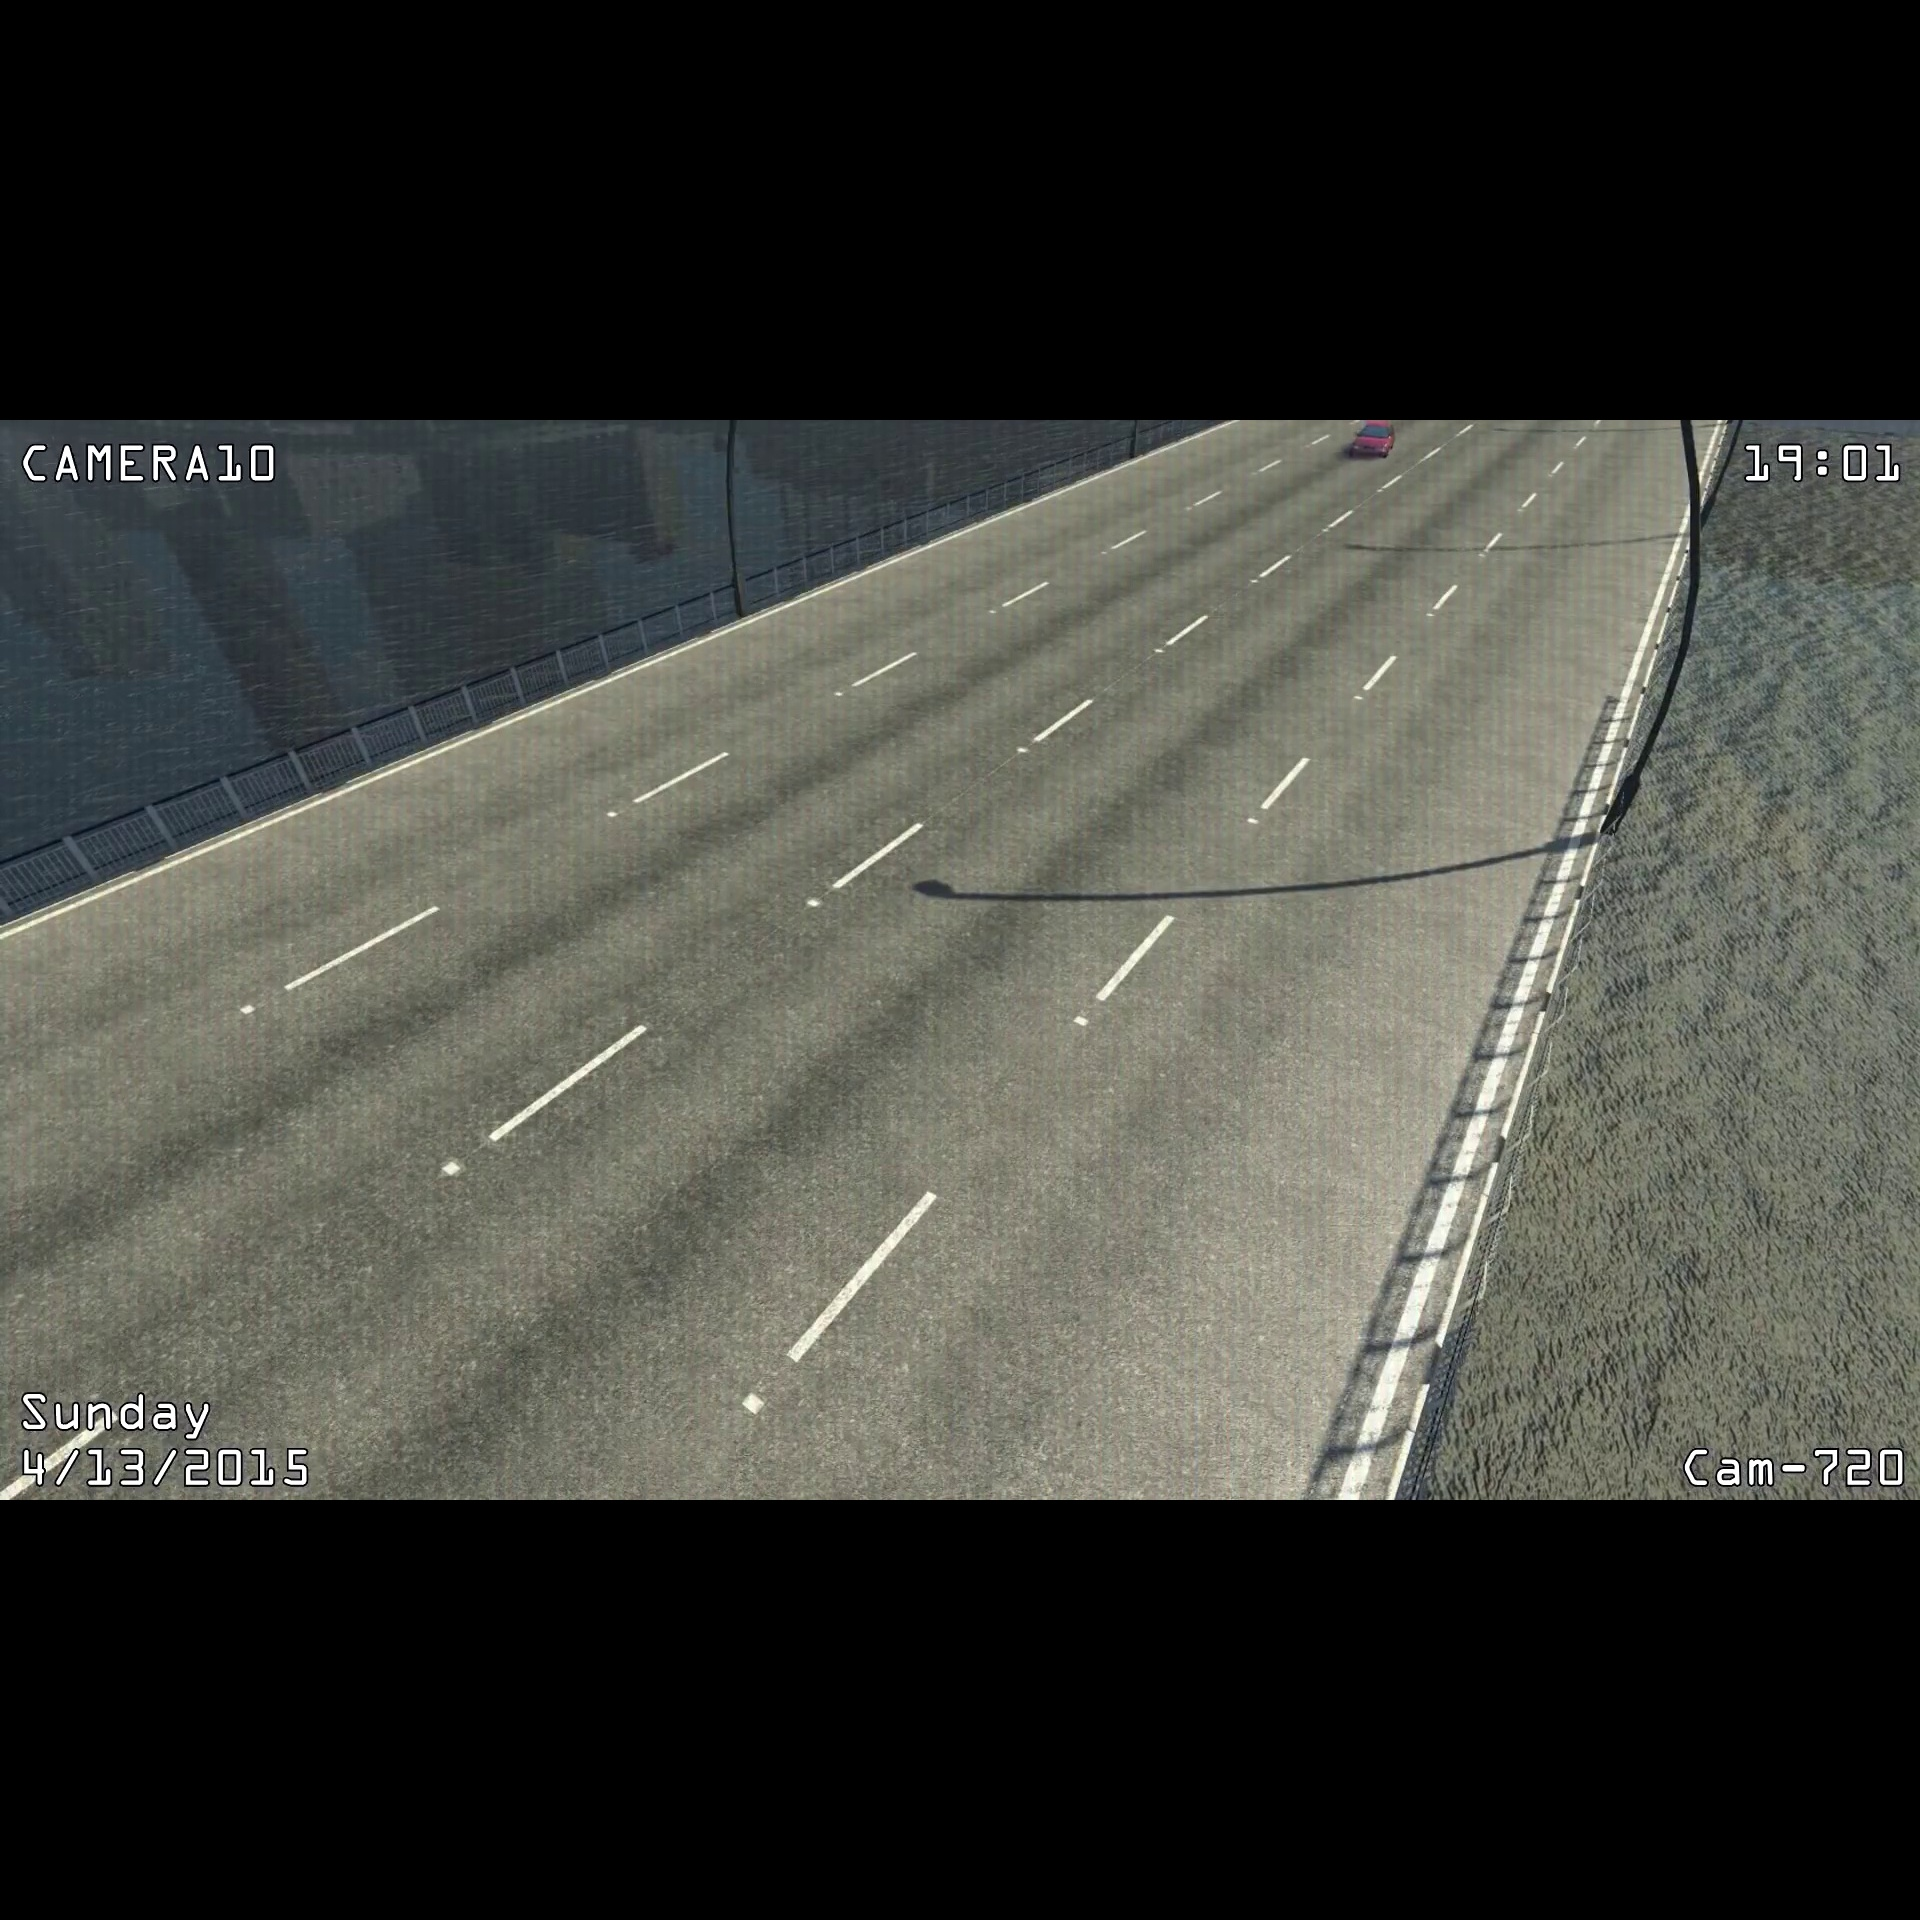vehicle: (1347, 418, 1407, 466)
